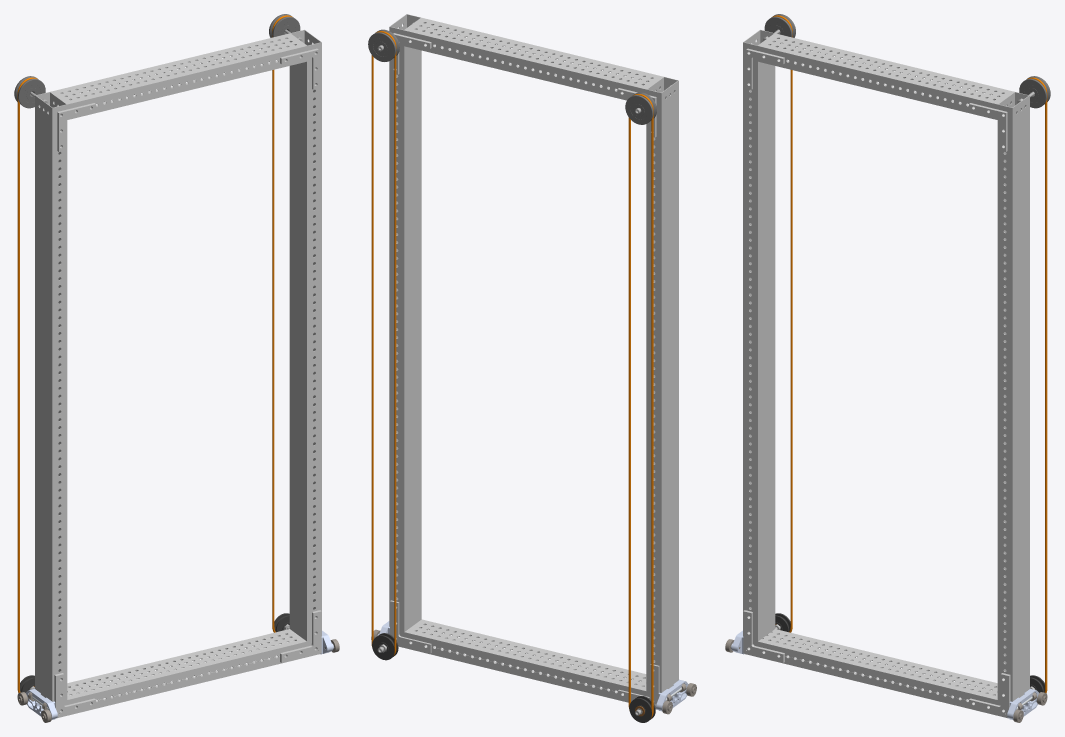
3 renders of one model, left to right at view 1: azimuth 30°, elevation 25°; view 2: azimuth 150°, elevation 25°; view 3: azimuth 330°, elevation 25°, orthographic.
Visible parts, largest first — view 1: second stage, sides (×2), second stage, top bar, MAXTube, 2x1x16" Light with Grid Pattern, rope (×2), bottom gusset (×2), skinny gusset (×2), Pulley; view 2: second stage, sides (×2), second stage, top bar, MAXTube, 2x1x16" Light with Grid Pattern, rope (×2), Pulley (×2), bottom gusset; view 3: second stage, sides (×2), second stage, top bar, MAXTube, 2x1x16" Light with Grid Pattern, rope (×2), bottom gusset (×2), skinny gusset (×2), Pulley.
Boxes of the visible parts, x1=… form: second stage, sides (×2): x1=35, y1=29, x2=321, y2=718; second stage, top bar: x1=50, y1=33, x2=306, y2=119; MAXTube, 2x1x16" Light with Grid Pattern: x1=67, y1=629, x2=306, y2=715; rope (×2): x1=17, y1=15, x2=292, y2=693; bottom gusset (×2): x1=54, y1=610, x2=321, y2=717; skinny gusset (×2): x1=57, y1=48, x2=318, y2=151; Pulley: x1=14, y1=76, x2=45, y2=108; second stage, sides (×2): x1=389, y1=14, x2=678, y2=709; second stage, top bar: x1=404, y1=18, x2=663, y2=100; MAXTube, 2x1x16" Light with Grid Pattern: x1=404, y1=619, x2=646, y2=702; rope (×2): x1=371, y1=31, x2=653, y2=718; Pulley (×2): x1=368, y1=29, x2=656, y2=124; bottom gusset: x1=390, y1=600, x2=431, y2=653; second stage, sides (×2): x1=743, y1=29, x2=1029, y2=718; second stage, top bar: x1=758, y1=33, x2=1014, y2=119; MAXTube, 2x1x16" Light with Grid Pattern: x1=758, y1=629, x2=997, y2=715; rope (×2): x1=772, y1=15, x2=1047, y2=693; bottom gusset (×2): x1=743, y1=610, x2=1010, y2=717; skinny gusset (×2): x1=746, y1=48, x2=1007, y2=151; Pulley: x1=1019, y1=76, x2=1050, y2=108.
Size of the model in its own units: 0.4988 by 1.01 by 0.1188.
